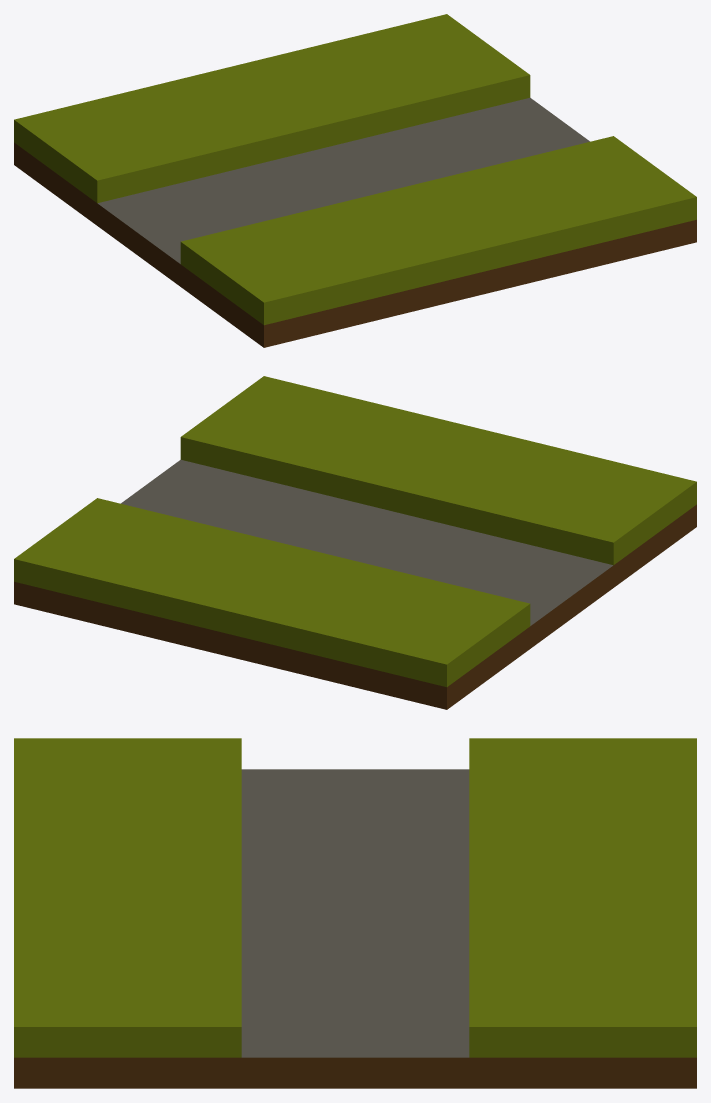
Rendered from CityStraight.fbx.
3 views of the same model, one above another, from view 1: azimuth 30°, elevation 25°; view 2: azimuth 150°, elevation 25°; view 3: azimuth 270°, elevation 25° (orthographic). The views are drawn at different scales.
Visible parts, largest first — view 1: CityStraight; view 2: CityStraight; view 3: CityStraight.
Boxes of the visible parts, box(x1,y1,x2,y2) form: CityStraight: box(14, 14, 696, 347); CityStraight: box(14, 376, 696, 709); CityStraight: box(14, 738, 696, 1088).
Bounding box in the file's own units: 1 × 0.1 × 1.
